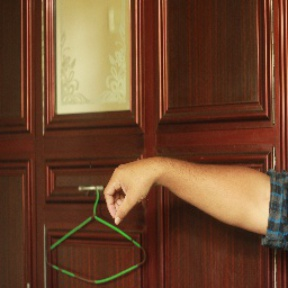O: (102, 159, 155, 227)
